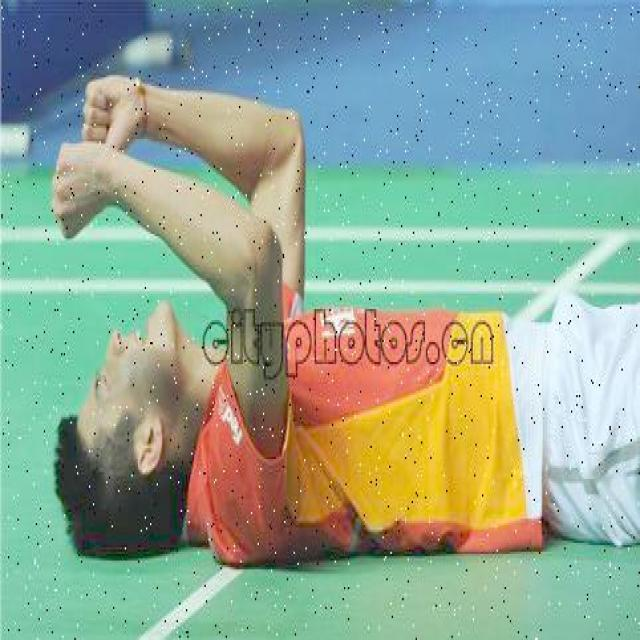fall: (46, 77, 638, 556)
